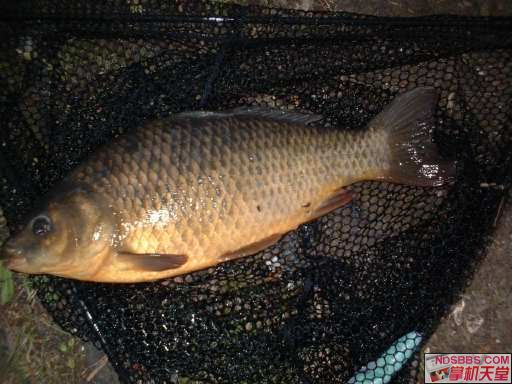fish: (0, 86, 442, 284)
